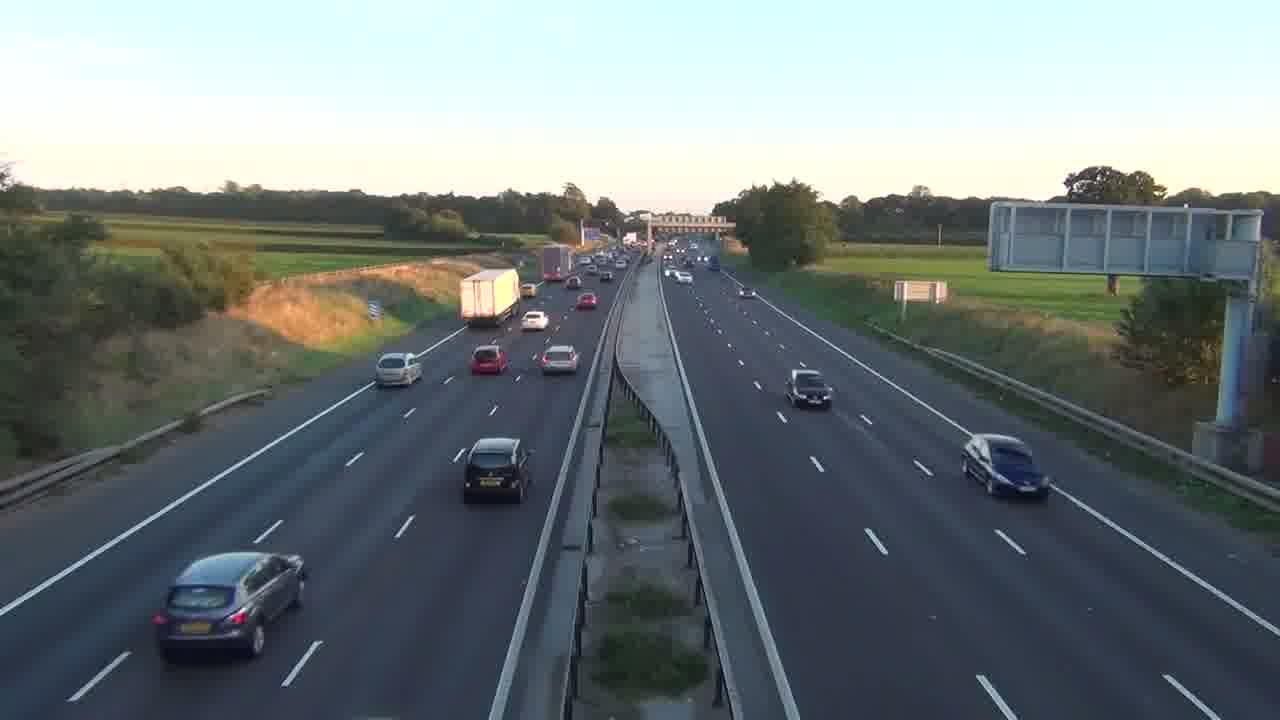car: (150, 549, 308, 662), (960, 432, 1048, 497), (462, 436, 532, 504), (784, 367, 834, 409), (374, 350, 423, 389), (532, 345, 579, 375), (470, 342, 509, 376), (521, 310, 547, 330), (575, 292, 599, 311)
truck: (459, 267, 521, 327)
